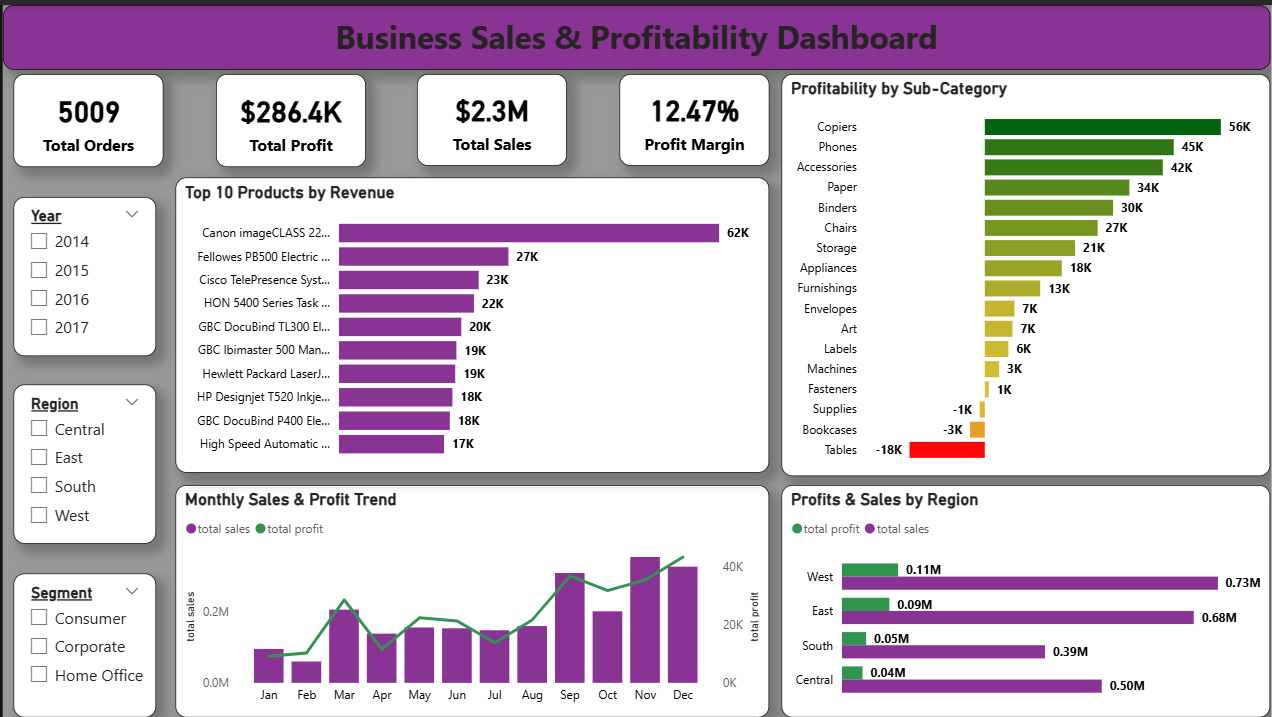

The page's visual inventory and layout, read from the dashboard file:
{"tool":"powerbi","page":{"name":"Business sales & profits","canvas":[1280,720],"ordinal":0},"visuals":[{"type":"textbox","box":[0,0,1279.5,65.1],"z":0},{"type":"slicer","fields":{"Values":["Calender.year"]},"box":[10.6,193.3,143.8,160.5],"z":1000},{"type":"slicer","fields":{"Values":["Sample - Superstore.Region"]},"box":[10.6,383.6,143.8,160.5],"z":2000},{"type":"slicer","fields":{"Values":["Sample - Superstore.Segment"]},"box":[10.6,573.9,143.8,145.4],"z":3000},{"type":"card","fields":{"Values":["measure Table.total sales"]},"box":[418.4,69.7,151.4,92.4],"z":4000},{"type":"card","fields":{"Values":["measure Table.Profit Margin"]},"box":[622.3,69.7,151.4,92.4],"z":5000},{"type":"card","fields":{"Values":["measure Table.total orders"]},"box":[10.6,69.7,151.4,93.9],"z":6000},{"type":"card","fields":{"Values":["measure Table.total profit"]},"box":[214.5,69.7,151.4,93.9],"z":7000},{"type":"lineClusteredColumnComboChart","title":"Monthly Sales & Profit Trend","fields":{"Category":["Calender.month"],"Y":["measure Table.total sales"],"Y2":["measure Table.total profit"]},"box":[174.1,484.5,599.6,234.7],"z":8000},{"type":"clusteredBarChart","title":"Top 10 Products by Revenue","fields":{"Category":["Sample - Superstore.Product Name"],"Y":["measure Table.total sales"]},"box":[174.1,174.1,599.6,298.3],"z":9000},{"type":"clusteredBarChart","title":"Profitability by Sub-Category","fields":{"Y":["measure Table.total profit"],"Category":["Sample - Superstore.Sub-Category"]},"box":[785.9,69.7,493.6,405.8],"z":10000},{"type":"clusteredBarChart","title":"Profits & Sales by Region","fields":{"Y":["measure Table.total profit","measure Table.total sales"],"Category":["Sample - Superstore.Region"]},"box":[785.9,484.5,493.6,234.7],"z":11000}]}

Visuals, with their boxes in screenshot pixels (x1, y1, x2, y2), scaled from the page's 1280x720 canvas onto the 1272x717 screenshot:
textbox: Rect(0, 0, 1271, 65)
slicer - Calender.year: Rect(11, 192, 153, 352)
slicer - Sample - Superstore.Region: Rect(11, 382, 153, 542)
slicer - Sample - Superstore.Segment: Rect(11, 572, 153, 716)
card - measure Table.total sales: Rect(416, 69, 566, 161)
card - measure Table.Profit Margin: Rect(618, 69, 769, 161)
card - measure Table.total orders: Rect(11, 69, 161, 163)
card - measure Table.total profit: Rect(213, 69, 364, 163)
"Monthly Sales & Profit Trend" lineClusteredColumnComboChart: Rect(173, 482, 769, 716)
"Top 10 Products by Revenue" clusteredBarChart: Rect(173, 173, 769, 470)
"Profitability by Sub-Category" clusteredBarChart: Rect(781, 69, 1271, 474)
"Profits & Sales by Region" clusteredBarChart: Rect(781, 482, 1271, 716)
